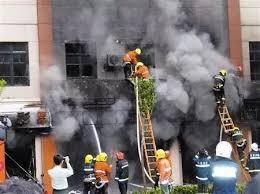fire: (120, 47, 151, 77)
